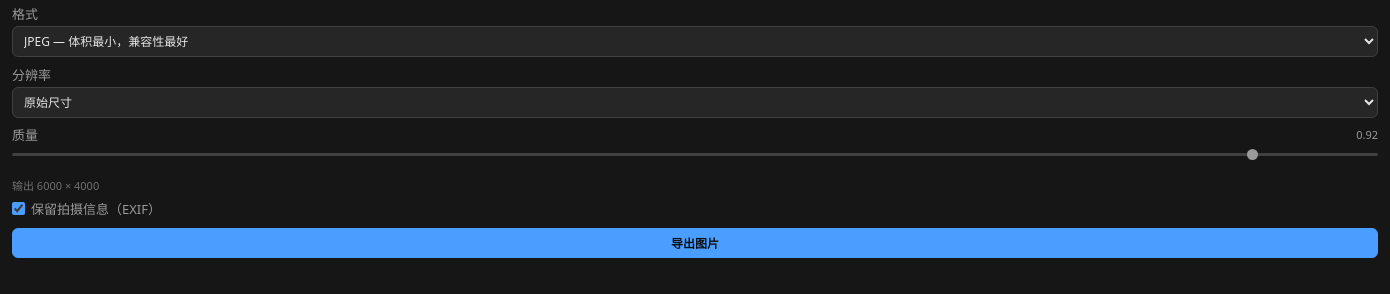
Scenario: ExportPanel 的 EXIF 保留 › 开关关掉之后不再显示 WebP 的那条标注
The width and height of the screenshot is (1390, 294).
Select "WebP — 同画质下比 JPEG 更小" in the dropdown labelled "格式". click: (695, 42)
box: [12, 26, 1378, 57]
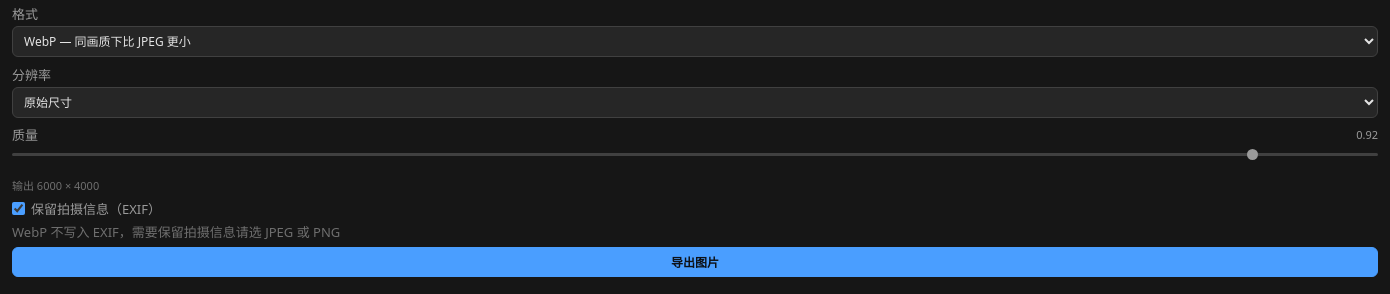
expect the text "WebP 不写入 EXIF，需要保留拍摄信息请选 JPEG 或 PNG" is shown: met, box [12, 223, 340, 241]
Click the checkbox labelled "保留拍摄信息（EXIF）". click: (18, 208)
box: [12, 202, 25, 215]
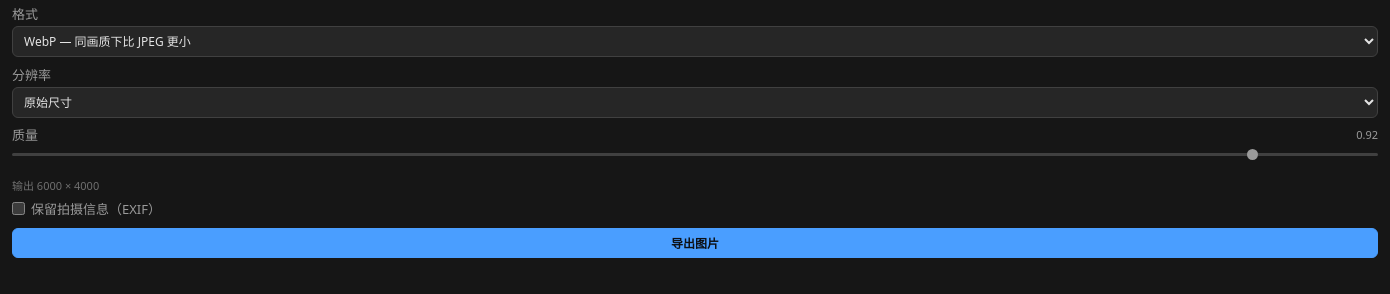
expect the text "不写入 EXIF" is gone: met
